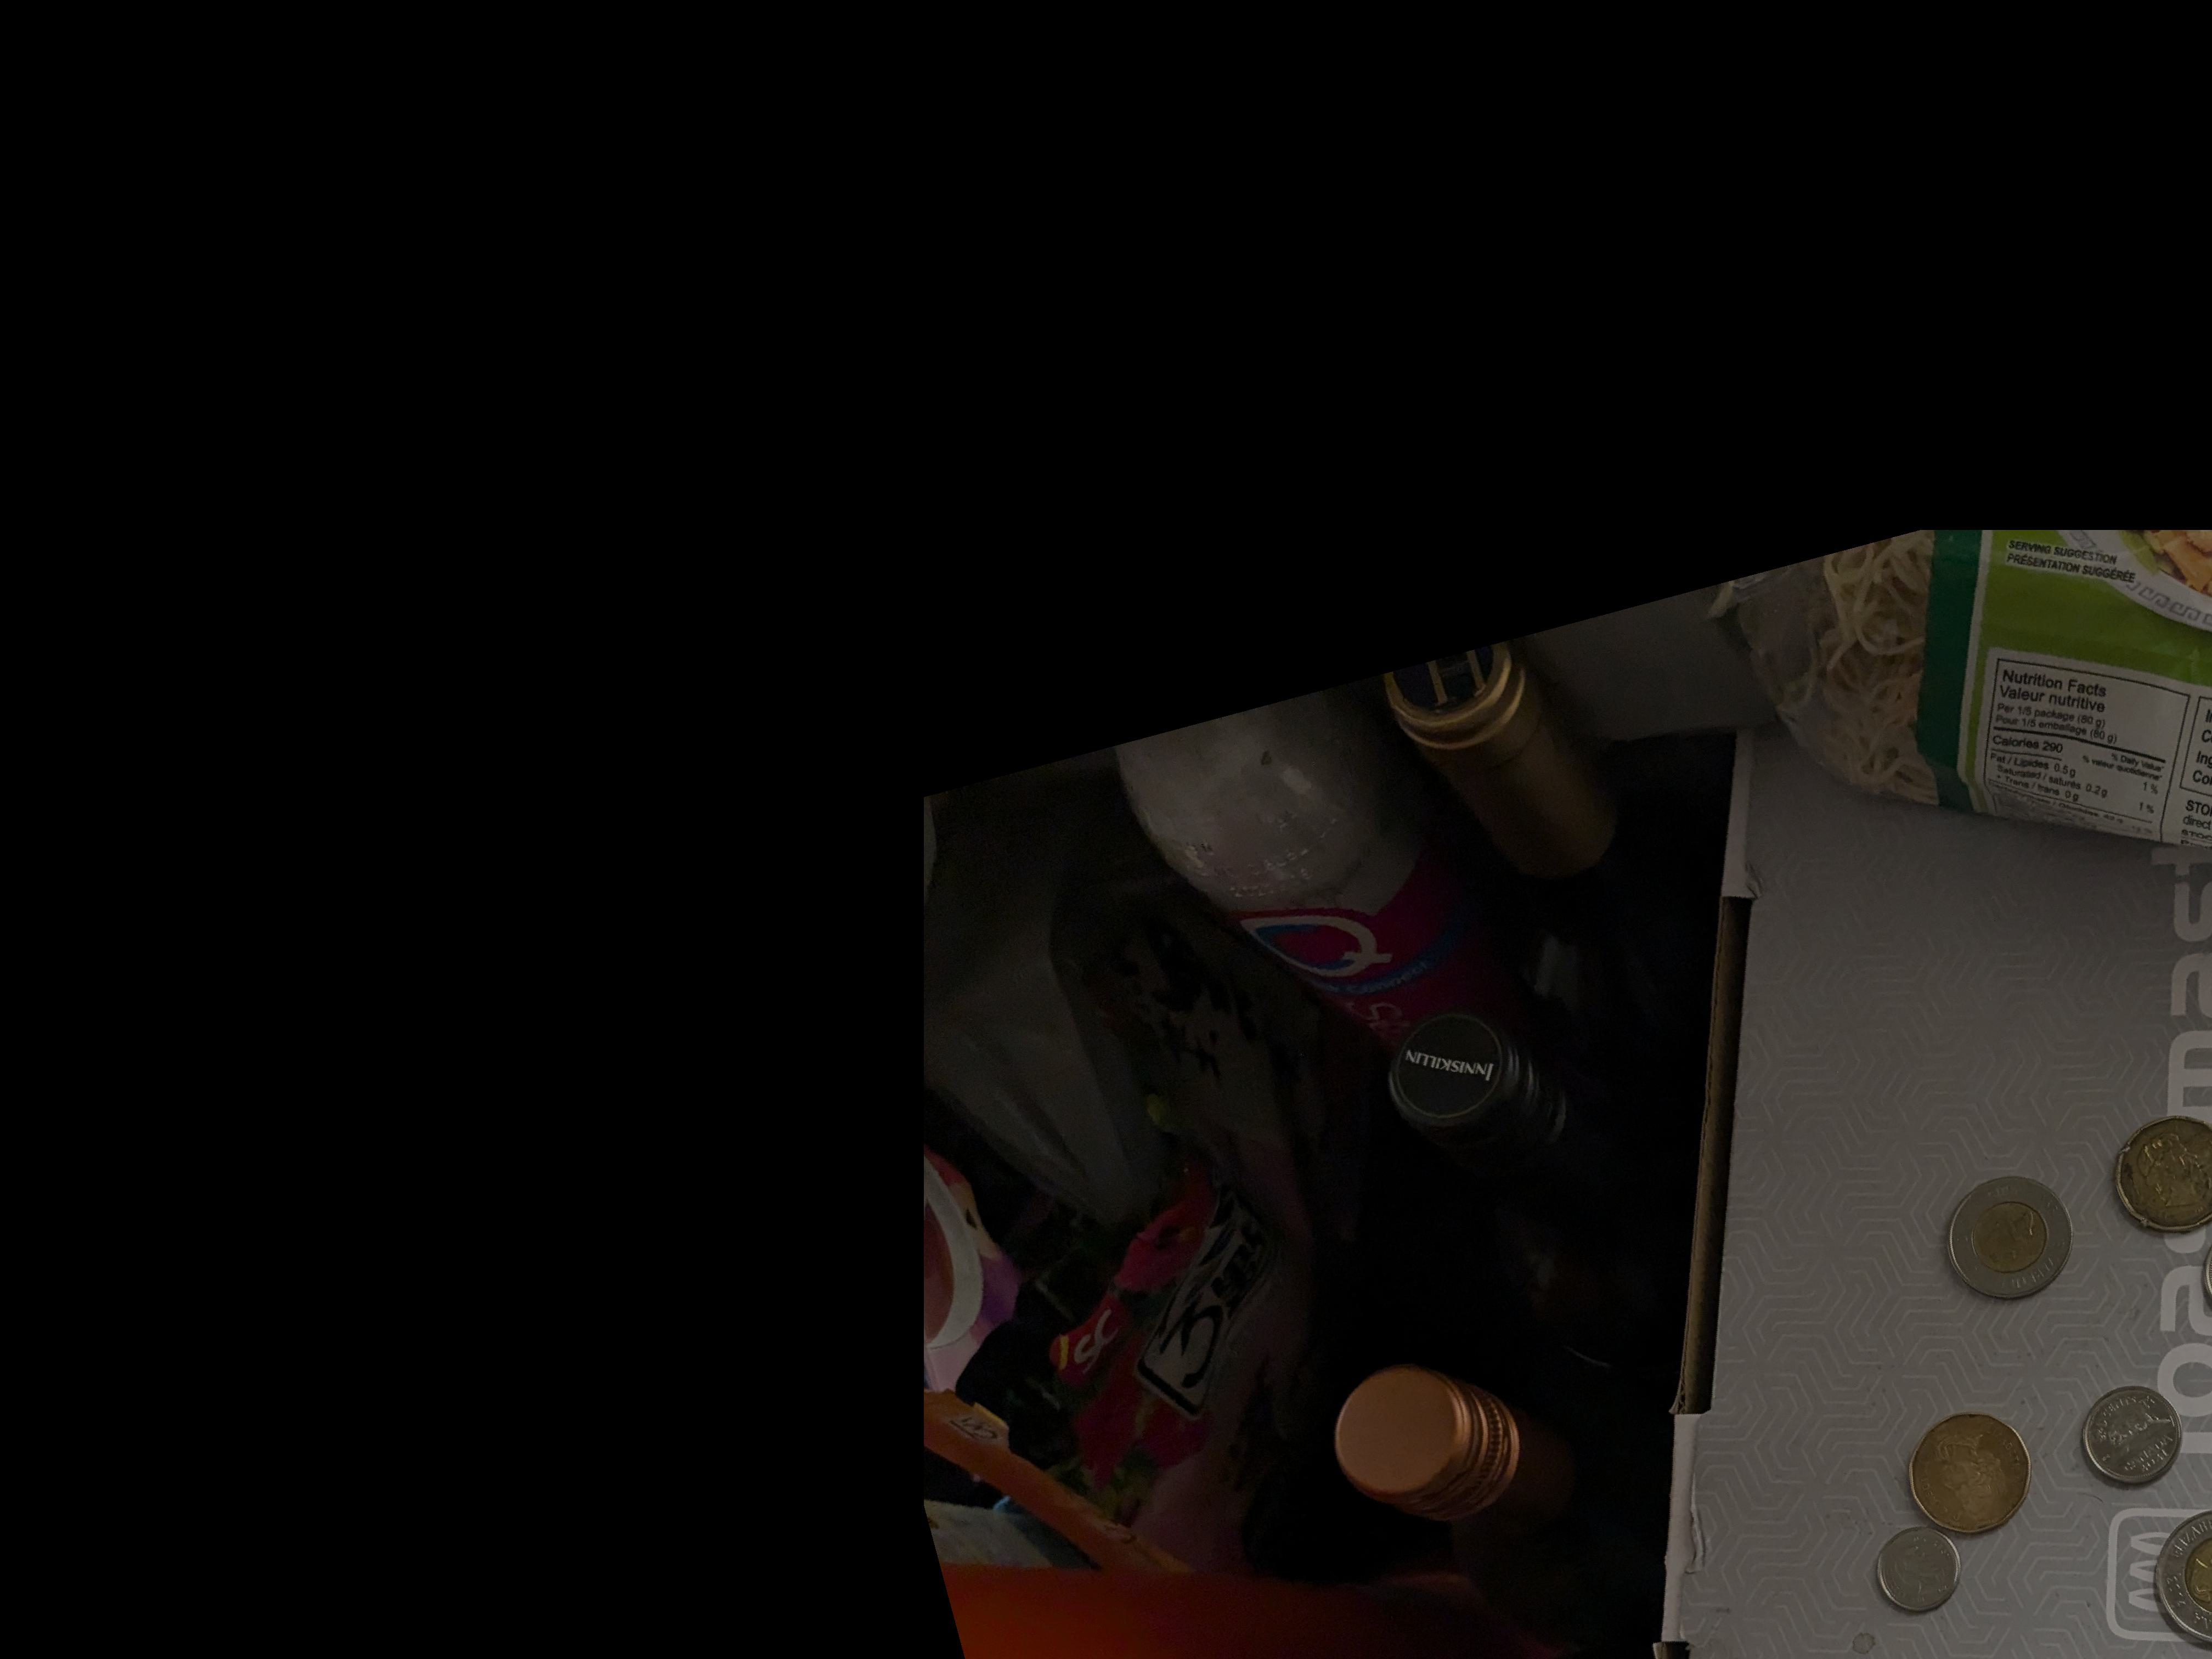dime: (1878, 1528, 1963, 1612)
loonie: (1905, 1412, 2034, 1537), (2114, 1114, 2212, 1236)
nickel: (2080, 1384, 2186, 1492)
toonie: (1947, 1176, 2073, 1302), (2149, 1506, 2210, 1654)
